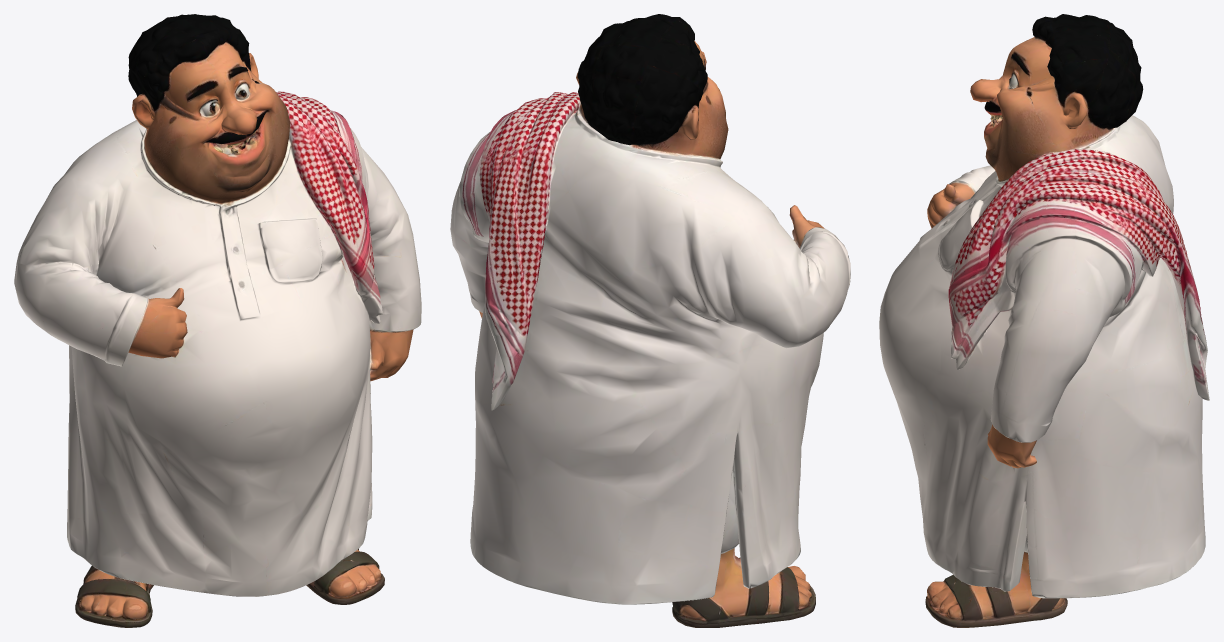
File: smiling_mascot.glb
3 views of the same model, side by side, from view 1: azimuth 30°, elevation 25°; view 2: azimuth 150°, elevation 25°; view 3: azimuth 270°, elevation 25° (orthographic). The views are drawn at different scales.
Bounding box in the file's own units: 1.33 × 1.9 × 1.04.
Materials: 1 (1 with a texture image).
